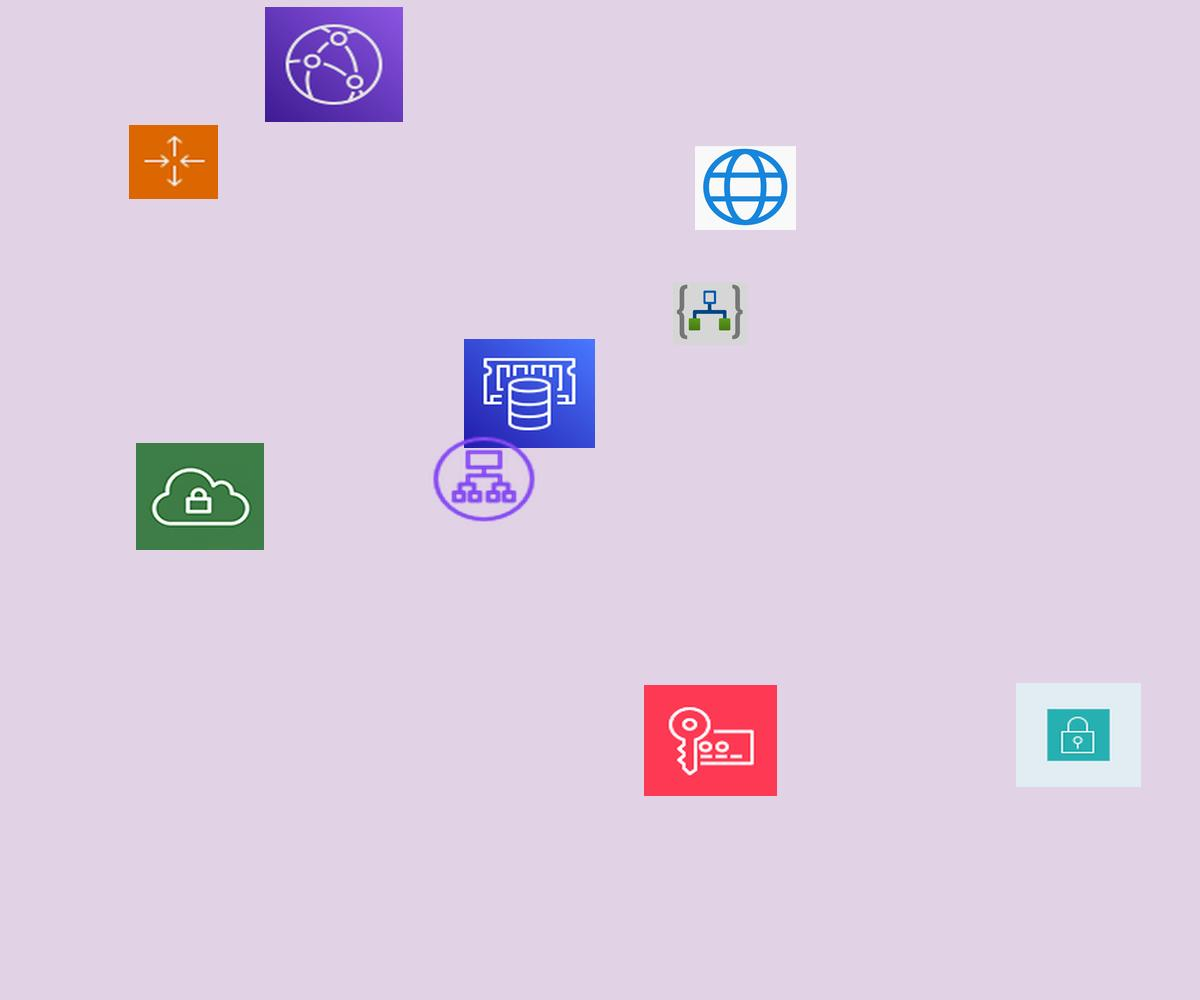AWS-CloudFront: (265, 7, 403, 122)
AWS-ElastiCache: (464, 339, 595, 448)
AWS-Key-Management-Service: (644, 685, 777, 796)
AWS-Private-subnet: (1016, 683, 1141, 787)
AWS-Private_vpc: (136, 443, 264, 550)
AWS-Res_Elastic-Load-Balancing_Application-Load-Balancer: (429, 433, 539, 525)
AWS-Scaling-group: (129, 125, 218, 199)
Azure_http: (695, 146, 796, 230)
Azure_integration-204-Logic-Apps: (673, 282, 748, 345)
